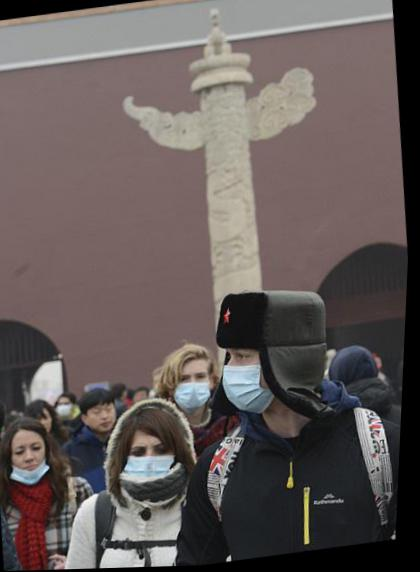NONE: (92, 403, 122, 434)
OK: (217, 336, 298, 416), (120, 433, 184, 496), (177, 370, 219, 415), (59, 399, 80, 420)
WRONG: (10, 438, 55, 483)
